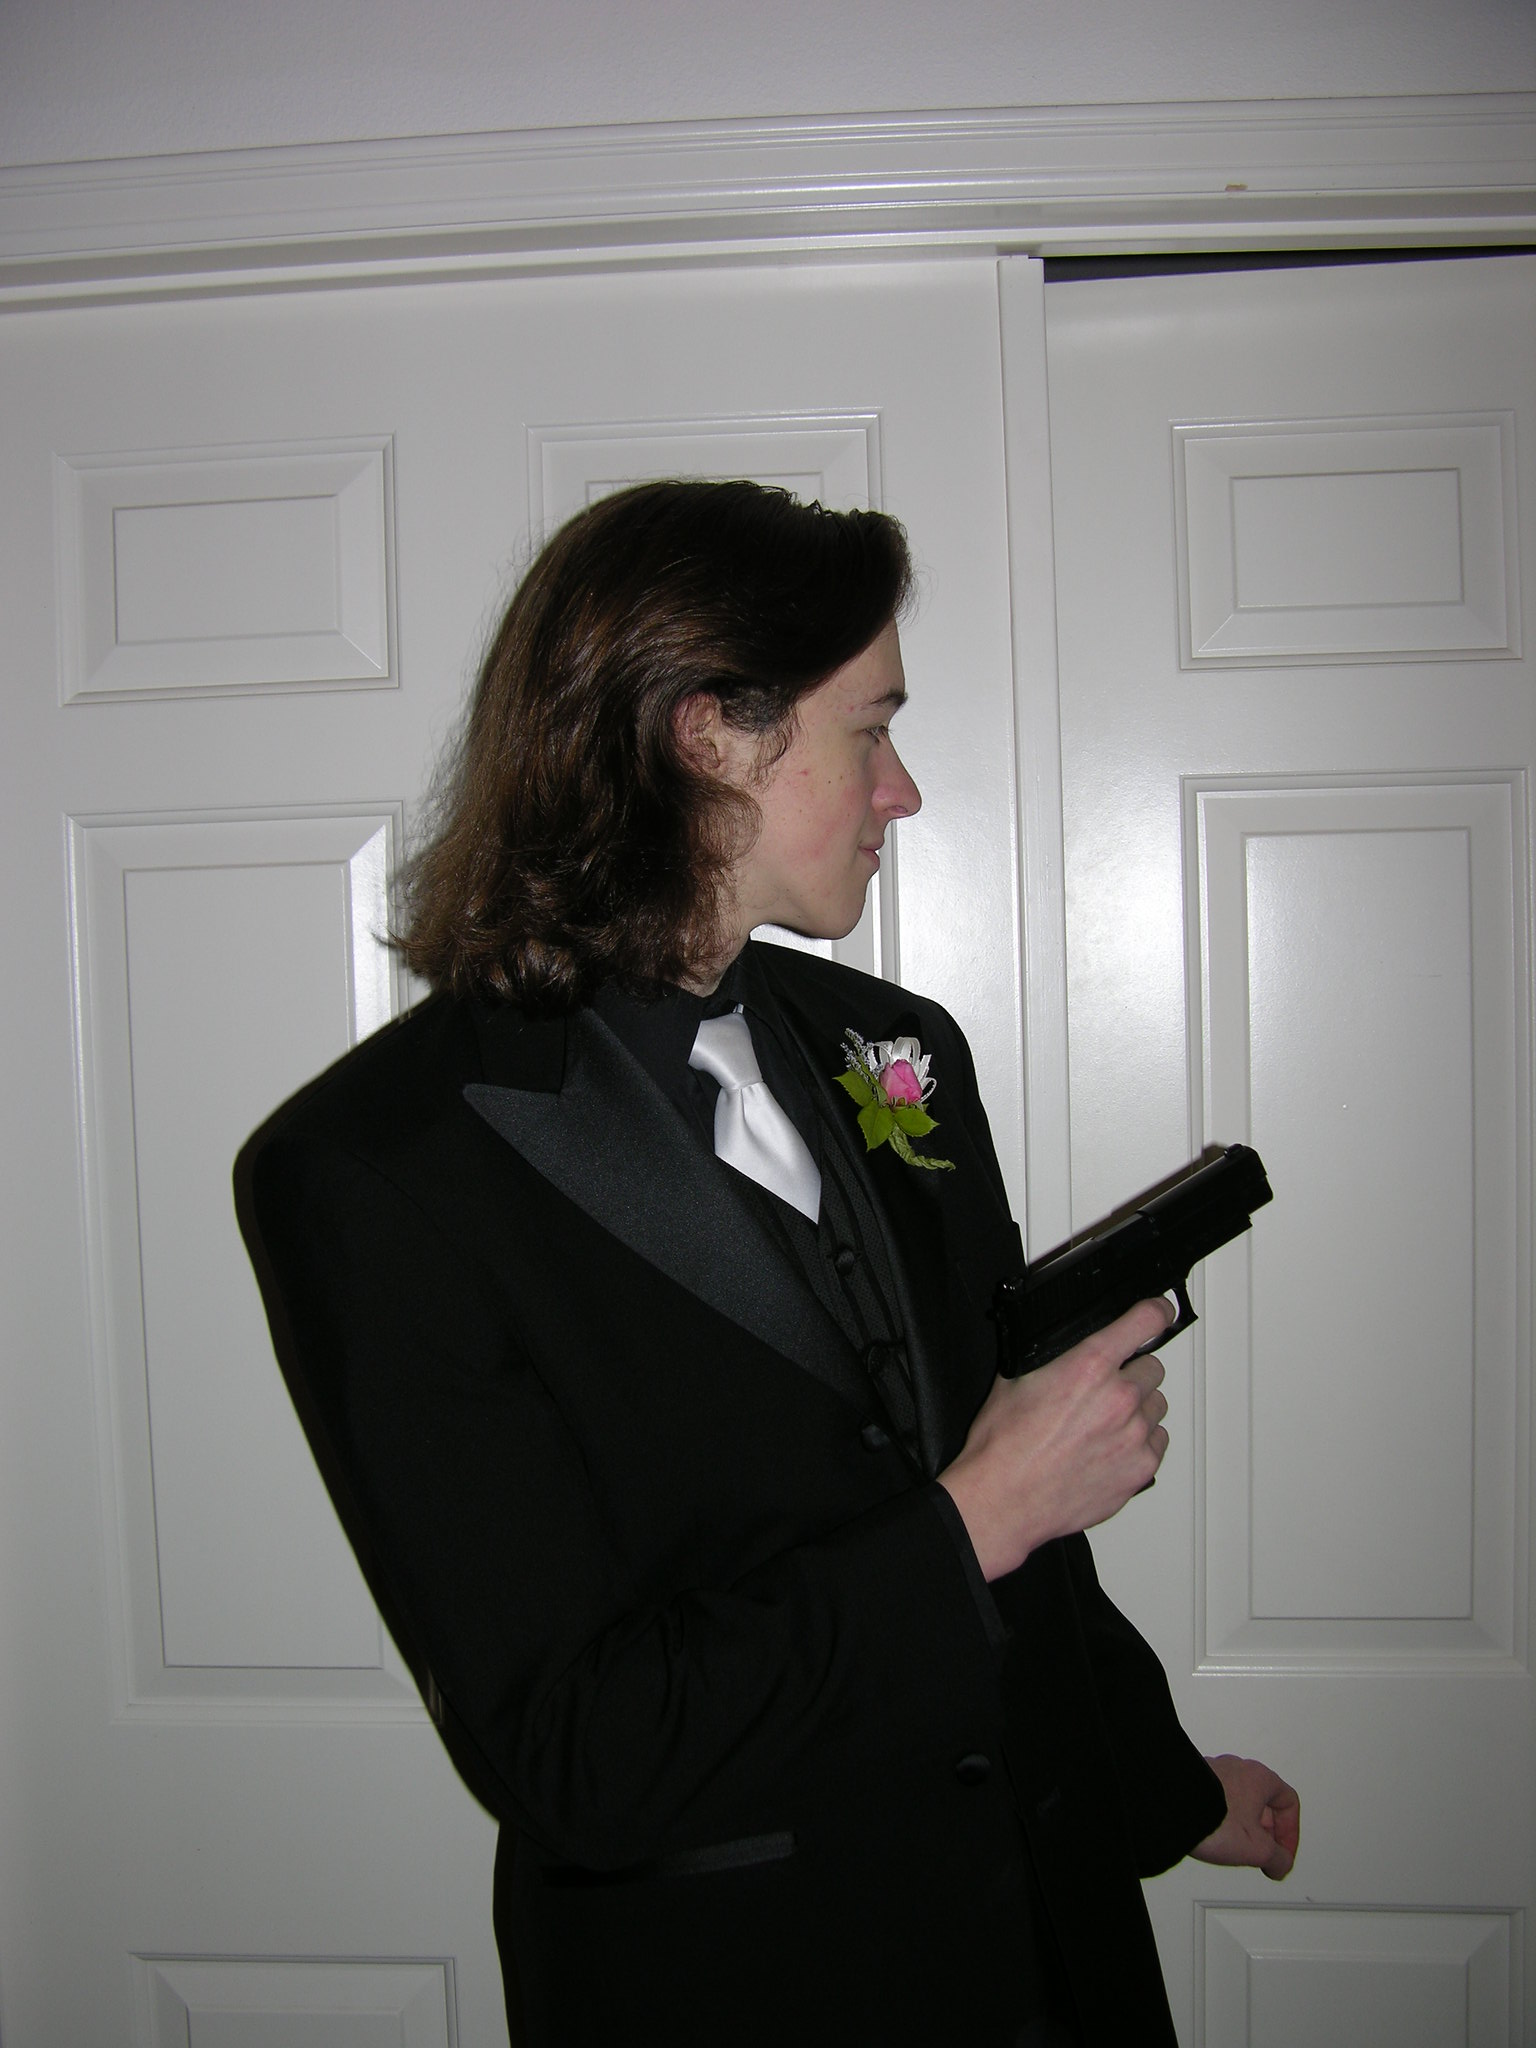gun: (973, 1137, 1322, 1514)
person: (228, 474, 1308, 2047)
